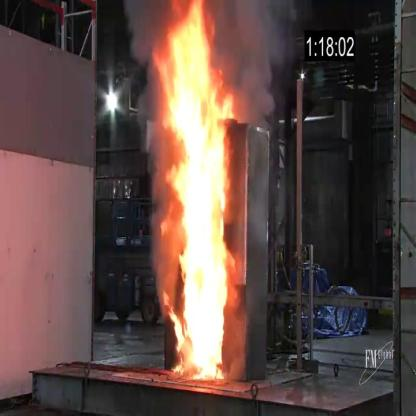fire: (154, 2, 235, 387)
